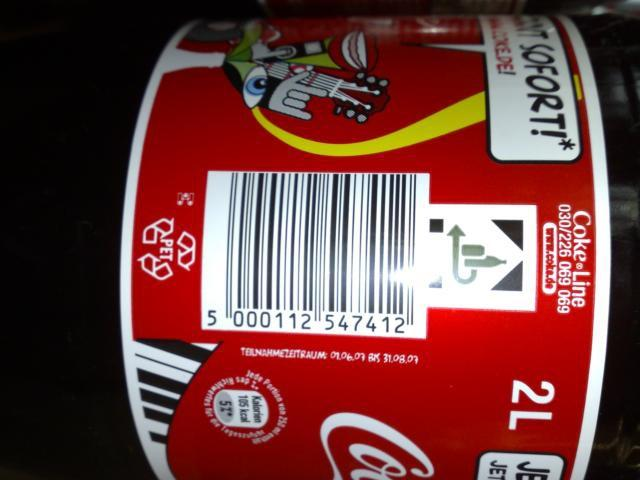Barcode: (202, 171, 429, 340)
